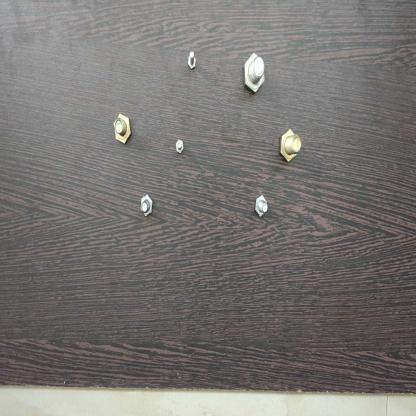Bolts: (241, 49, 269, 96), (113, 109, 134, 155), (278, 125, 301, 166), (179, 46, 201, 80), (134, 188, 156, 222), (252, 189, 270, 219), (174, 140, 189, 156)
